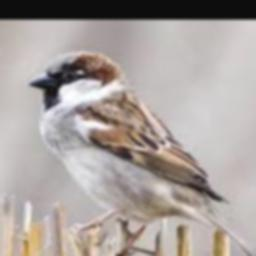Sparrow: (27, 49, 256, 256)
